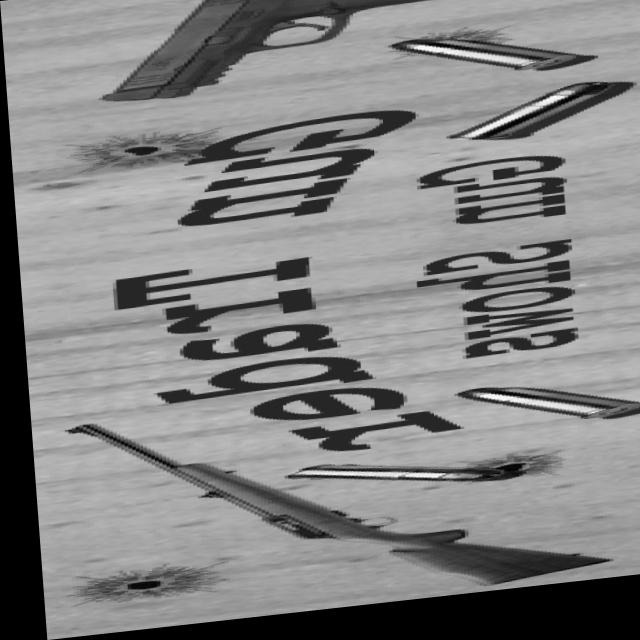handgun: (77, 0, 552, 109)
